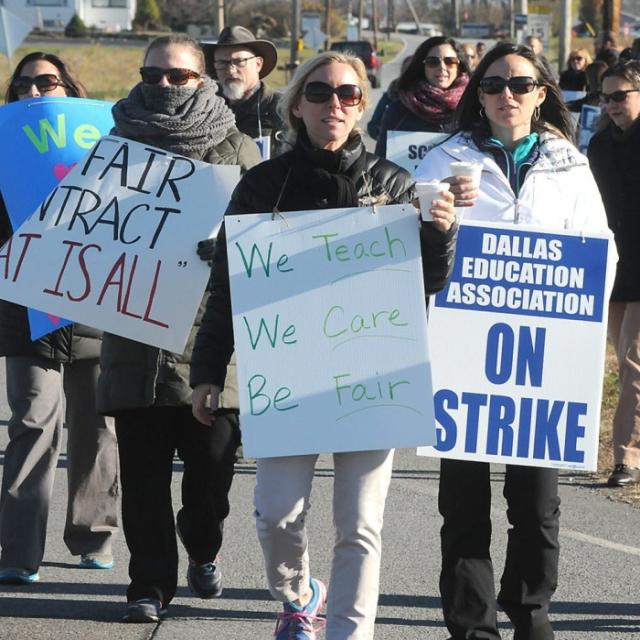body: (186, 49, 462, 639), (395, 39, 621, 639), (87, 31, 267, 626), (0, 51, 123, 587), (0, 580, 640, 633), (582, 61, 639, 488), (193, 25, 288, 162), (372, 33, 476, 157), (461, 34, 640, 80), (364, 52, 416, 141), (562, 61, 612, 115), (556, 46, 595, 92)
